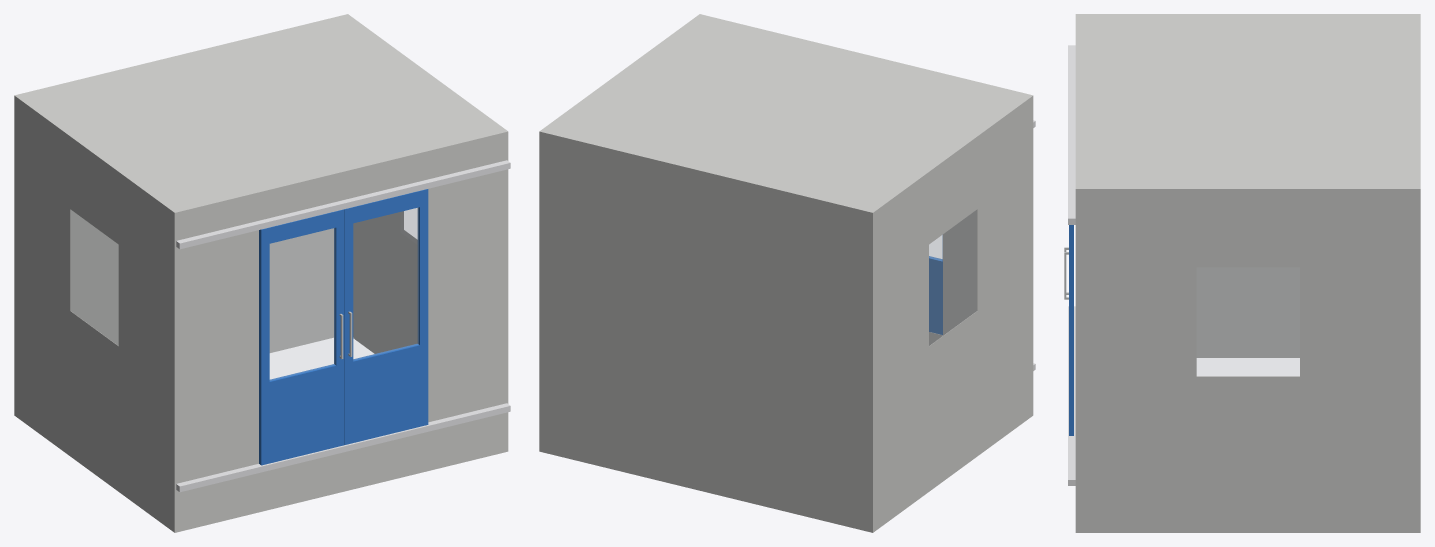
Rendered from enclosure-machine.glb.
3 renders of one model, left to right at view 1: azimuth 30°, elevation 25°; view 2: azimuth 150°, elevation 25°; view 3: azimuth 270°, elevation 25°, orthographic. The views are drawn at different scales.
Visible parts, largest first — view 1: body, door-l, door-r; view 2: body, door-l; view 3: body, door-r.
Part boxes in pixels (x1,y1,x2,y2): body: (14, 14, 510, 532); door-l: (259, 209, 344, 465); door-r: (344, 189, 428, 444); body: (539, 14, 1035, 532); door-l: (929, 235, 942, 334); body: (1068, 14, 1420, 532); door-r: (1064, 225, 1073, 435).
Size of what is drawn, in the model's own units: 2.4 by 2.2 by 2.07.
